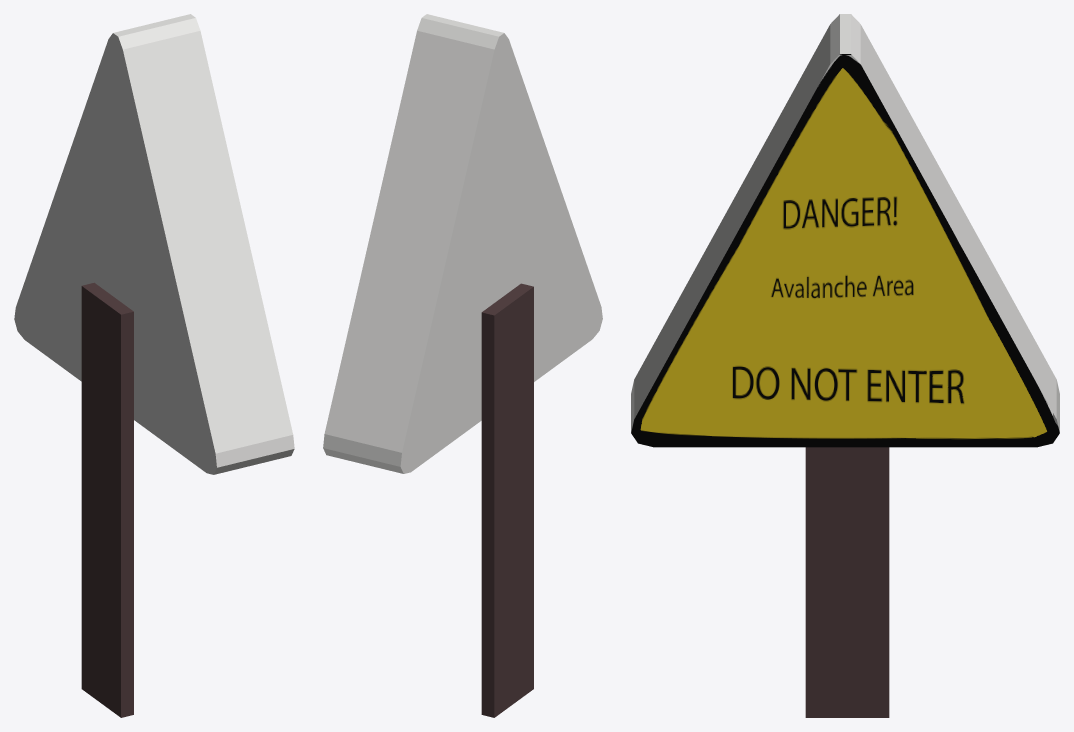
The model's file is Sign Test 1.fbx.
The picture shows the model from 3 angles, left to right: view 1: azimuth 30°, elevation 25°; view 2: azimuth 150°, elevation 25°; view 3: azimuth 270°, elevation 25°; orthographic projection. The views are drawn at different scales.
Parts seen in each view (by area): view 1: Cube.001, Post.001; view 2: Cube.001, Post.001; view 3: Cube.001, Post.001.
Part boxes in pixels (x1,y1,x2,y2): Cube.001: (14, 14, 294, 474); Post.001: (81, 282, 133, 717); Cube.001: (323, 14, 602, 473); Post.001: (481, 283, 533, 717); Cube.001: (631, 14, 1059, 447); Post.001: (805, 447, 889, 717).
Bounding box in the file's own units: 70.89 × 496 × 273.
